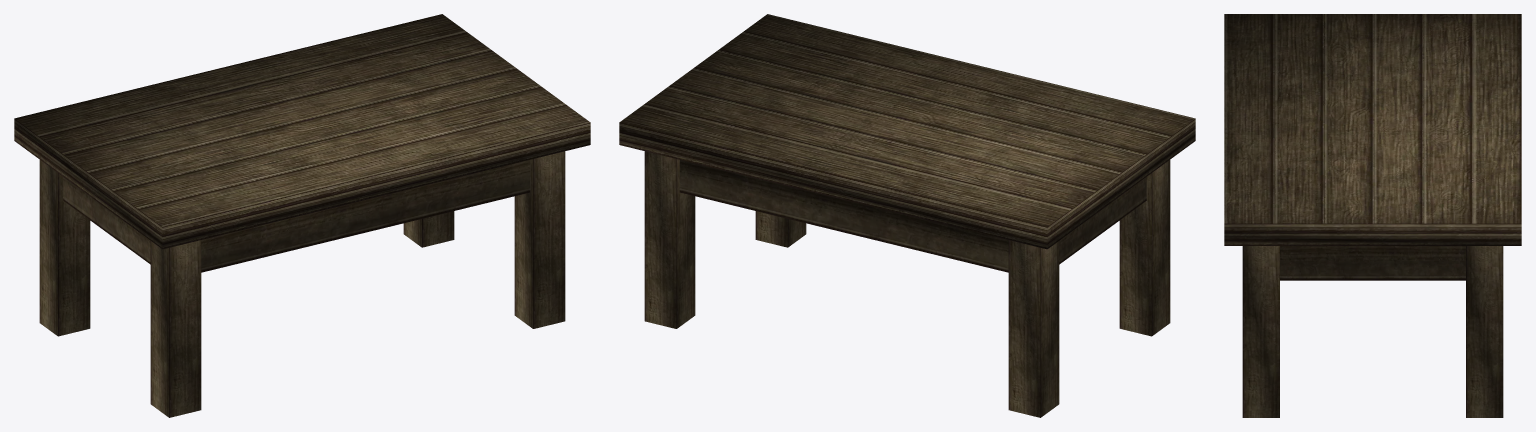
The model's file is GS_CITY_TABLE_NORMAL_BROWN_01_KOZA.glb.
3 views of the same model, side by side, from view 1: azimuth 30°, elevation 25°; view 2: azimuth 150°, elevation 25°; view 3: azimuth 270°, elevation 25° (orthographic).
Visible parts, largest first — view 1: Mesh; view 2: Mesh; view 3: Mesh.
Boxes of the visible parts, box(x1,y1,x2,y2) form: Mesh: box(14, 14, 590, 417); Mesh: box(619, 14, 1195, 417); Mesh: box(1224, 14, 1521, 417).
Size of the model in its own units: 2 by 0.9 by 1.2.
Materials: 2 (2 with a texture image).
